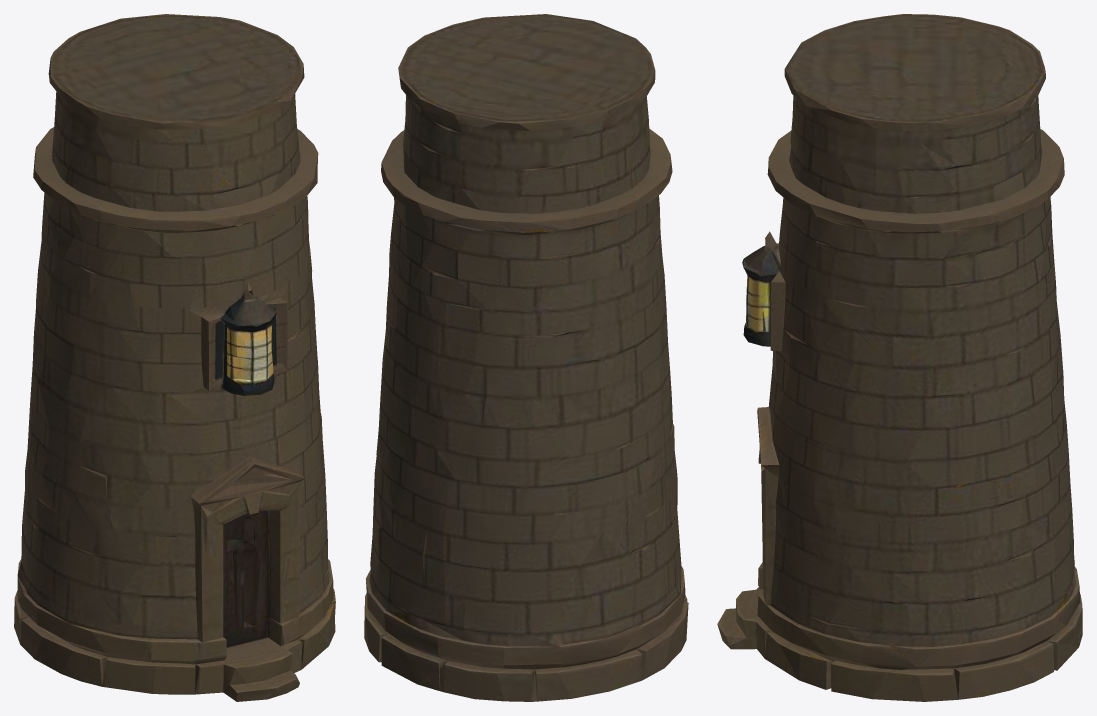
The model's file is lighthouse.glb.
The picture shows the model from 3 angles, left to right: view 1: azimuth 30°, elevation 25°; view 2: azimuth 150°, elevation 25°; view 3: azimuth 270°, elevation 25°; orthographic projection.
Bounding box in the file's own units: 0.9875 × 1.9 × 1.11.
Materials: 1 (1 with a texture image).
